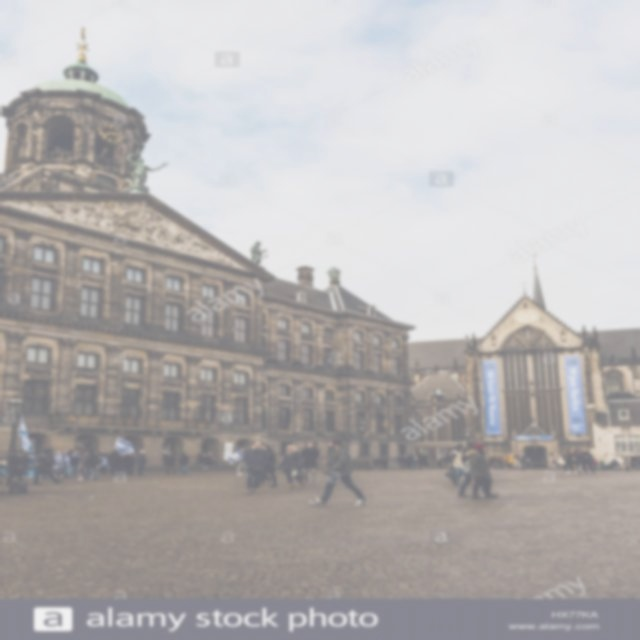pessoa: (306, 436, 372, 508), (456, 441, 502, 498), (464, 442, 500, 500), (242, 440, 270, 494), (276, 444, 306, 490), (32, 448, 66, 486), (299, 440, 321, 486), (446, 446, 468, 487), (258, 445, 278, 489), (79, 448, 104, 480), (4, 449, 24, 486), (40, 448, 58, 480), (54, 448, 70, 479), (579, 448, 598, 474), (571, 448, 589, 474), (76, 448, 90, 480), (561, 448, 578, 474), (198, 450, 219, 470), (235, 447, 249, 476), (17, 451, 32, 478), (96, 449, 111, 476), (134, 449, 148, 476), (164, 450, 178, 476), (177, 450, 191, 476), (69, 450, 82, 477), (123, 452, 136, 475), (110, 449, 121, 476), (501, 450, 515, 470), (515, 450, 529, 470), (116, 450, 125, 472), (621, 458, 632, 472), (400, 454, 410, 469), (416, 454, 426, 469), (407, 452, 415, 470), (610, 458, 620, 472), (395, 454, 404, 469), (370, 457, 380, 470), (381, 456, 390, 469), (376, 456, 384, 470), (591, 458, 599, 472), (436, 457, 444, 469), (598, 461, 606, 472), (636, 458, 640, 471), (259, 442, 266, 449), (73, 449, 80, 454), (64, 449, 70, 453), (124, 452, 129, 456), (162, 451, 168, 454)
